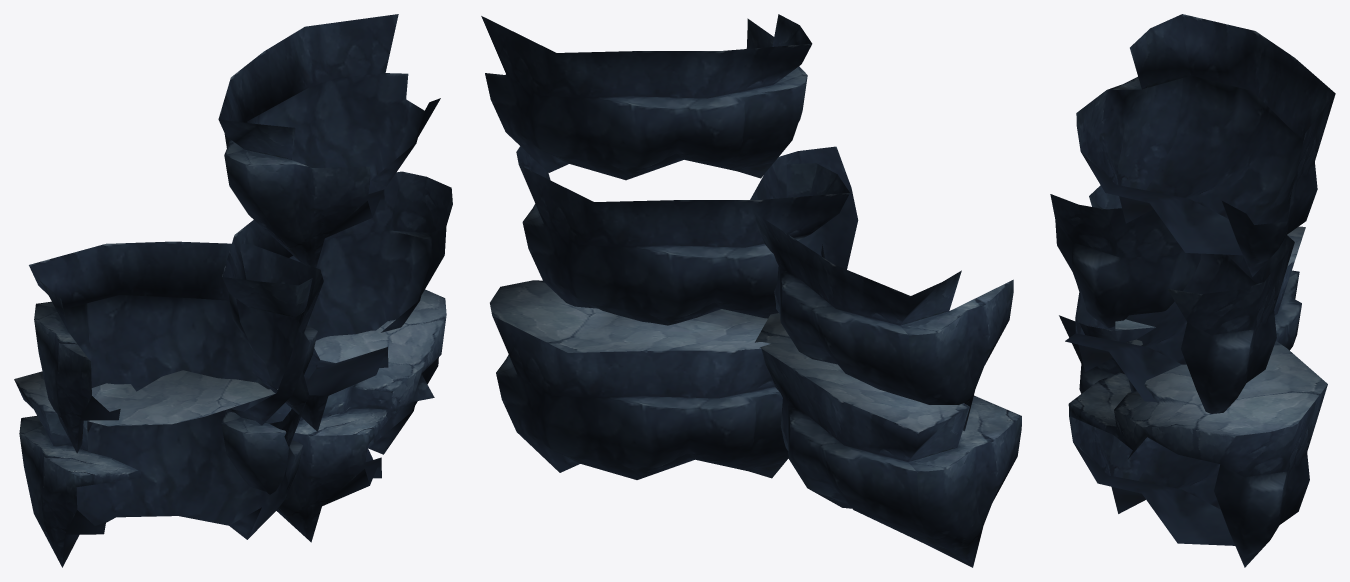
Rendered from Area_02_4.fbx.
The picture shows the model from 3 angles, left to right: view 1: azimuth 30°, elevation 25°; view 2: azimuth 150°, elevation 25°; view 3: azimuth 270°, elevation 25°; orthographic projection. The views are drawn at different scales.
Parts seen in each view (by area): view 1: Area_02_4; view 2: Area_02_4; view 3: Area_02_4.
Boxes of the visible parts, box(x1,y1,x2,y2) form: Area_02_4: box(14, 14, 452, 567); Area_02_4: box(481, 14, 1021, 567); Area_02_4: box(1050, 14, 1335, 567).
Size of the model in its own units: 13384 by 12959 by 7074.
